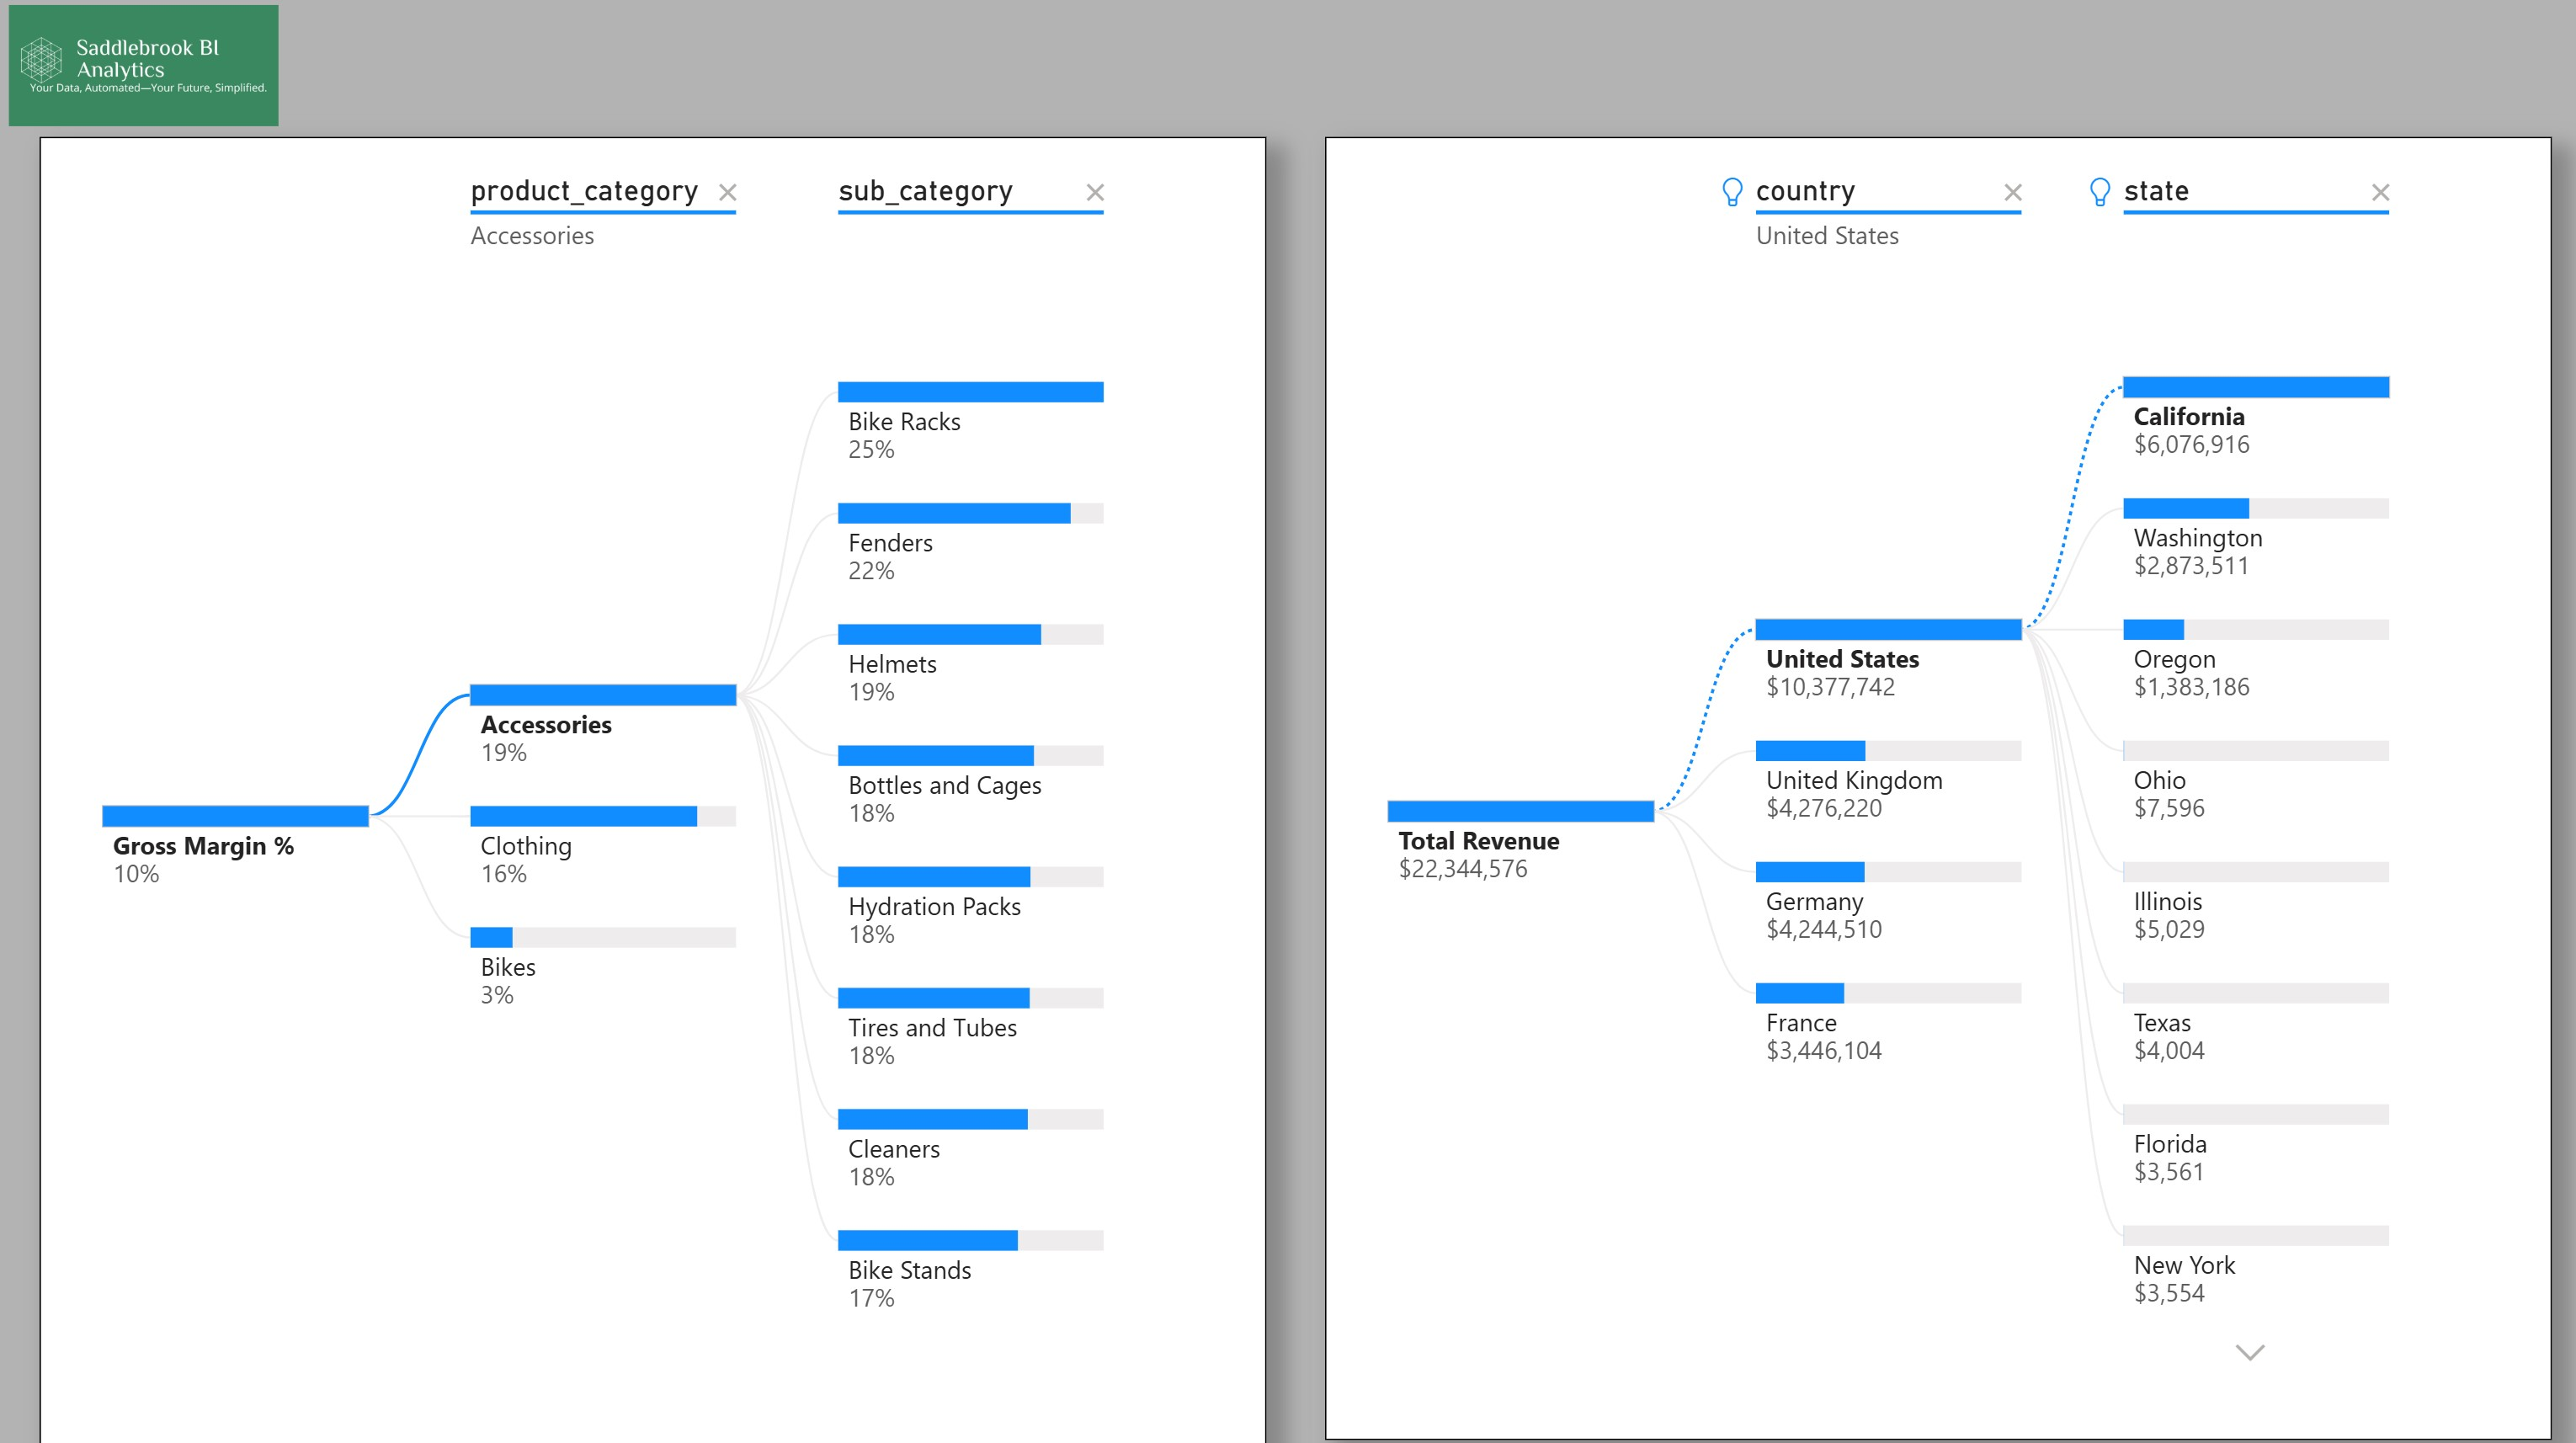

What the dashboard file says about the page in this screenshot:
{"tool":"powerbi","page":{"name":"Decomp Tree","canvas":[1280,720],"ordinal":1},"visuals":[{"type":"decompositionTreeVisual","fields":{"Analyze":["fact_sales.Gross Margin %"],"ExplainBy":["fact_sales.product_category","fact_sales.sub_category"]},"box":[21,69.9,600.9,642.9],"z":0},{"type":"decompositionTreeVisual","fields":{"Analyze":["fact_sales.Total Revenue"],"ExplainBy":["fact_sales.country","fact_sales.state"]},"box":[650.4,69.9,600.9,638.2],"z":1},{"type":"image","box":[0,0,143.8,69.9],"z":2}]}

Visuals, with their boxes in screenshot pixels (x1, y1, x2, y2):
decompositionTreeVisual - fact_sales.Gross Margin % x fact_sales.product_category: detection(29, 136, 1260, 1442)
decompositionTreeVisual - fact_sales.Total Revenue x fact_sales.country: detection(1318, 136, 2549, 1442)
image: detection(0, 0, 281, 136)
